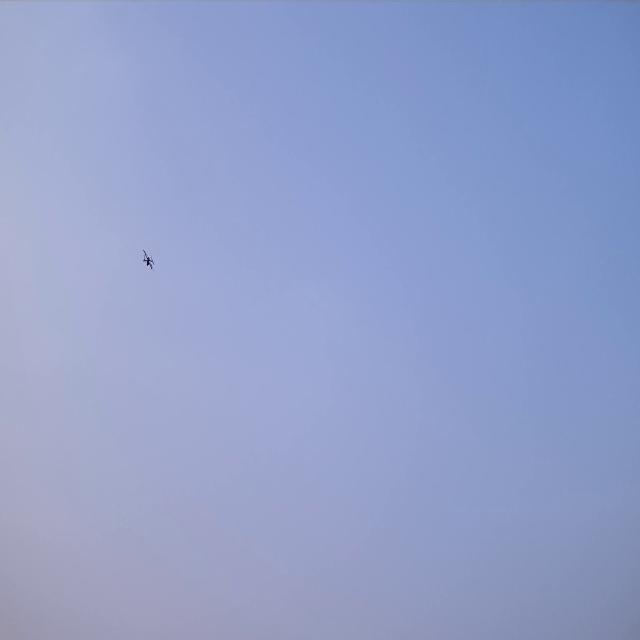UAV: (142, 248, 156, 274)
